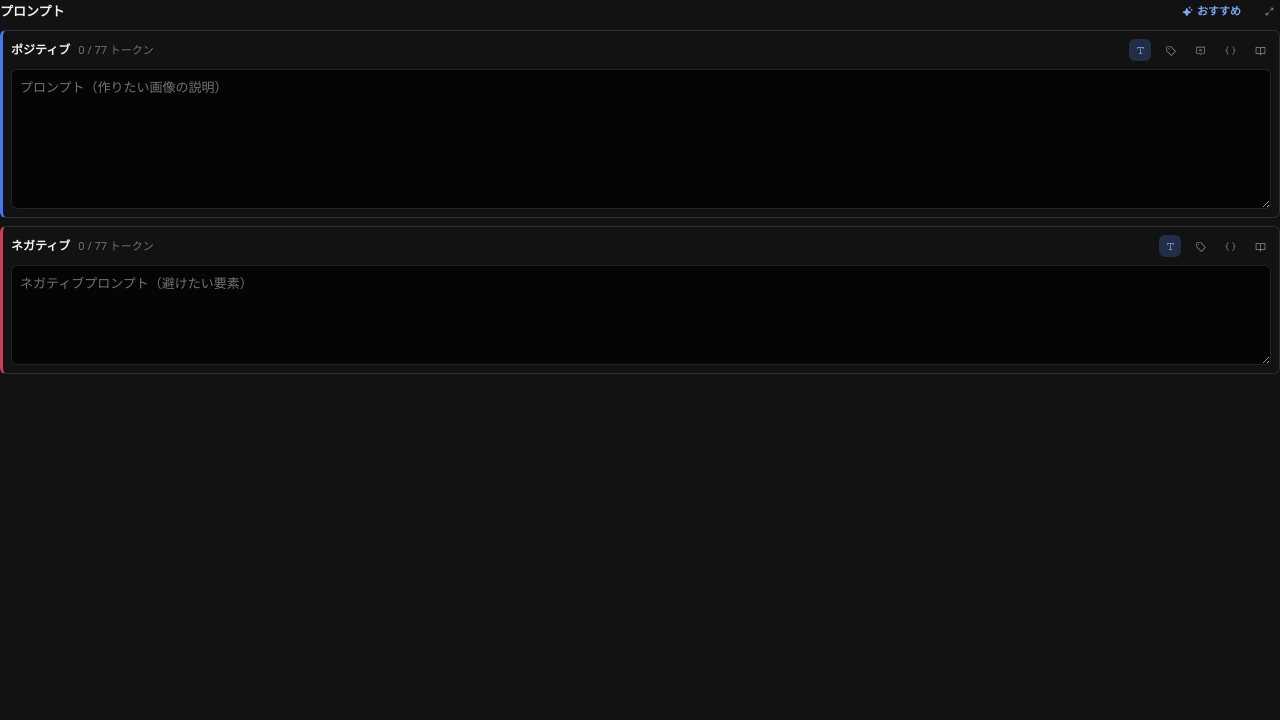
the prompt boxes › edits both prompts in the big editor, and closes it
This screenshot has width=1280, height=720.
Click the button with test id "prompt-expand" at (1269, 11), box [1258,0,1279,22]
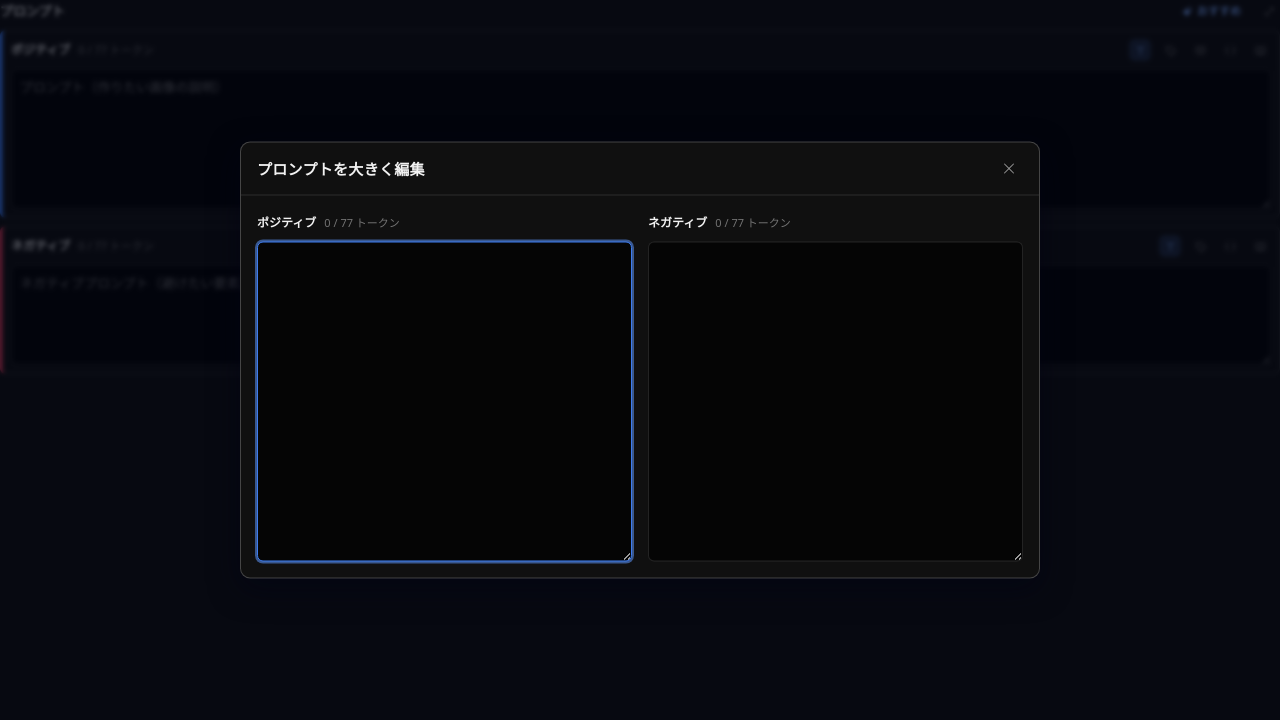
Type "long positive" into the text box with test id "big-positive" at (444, 402), box [257,242,632,562]
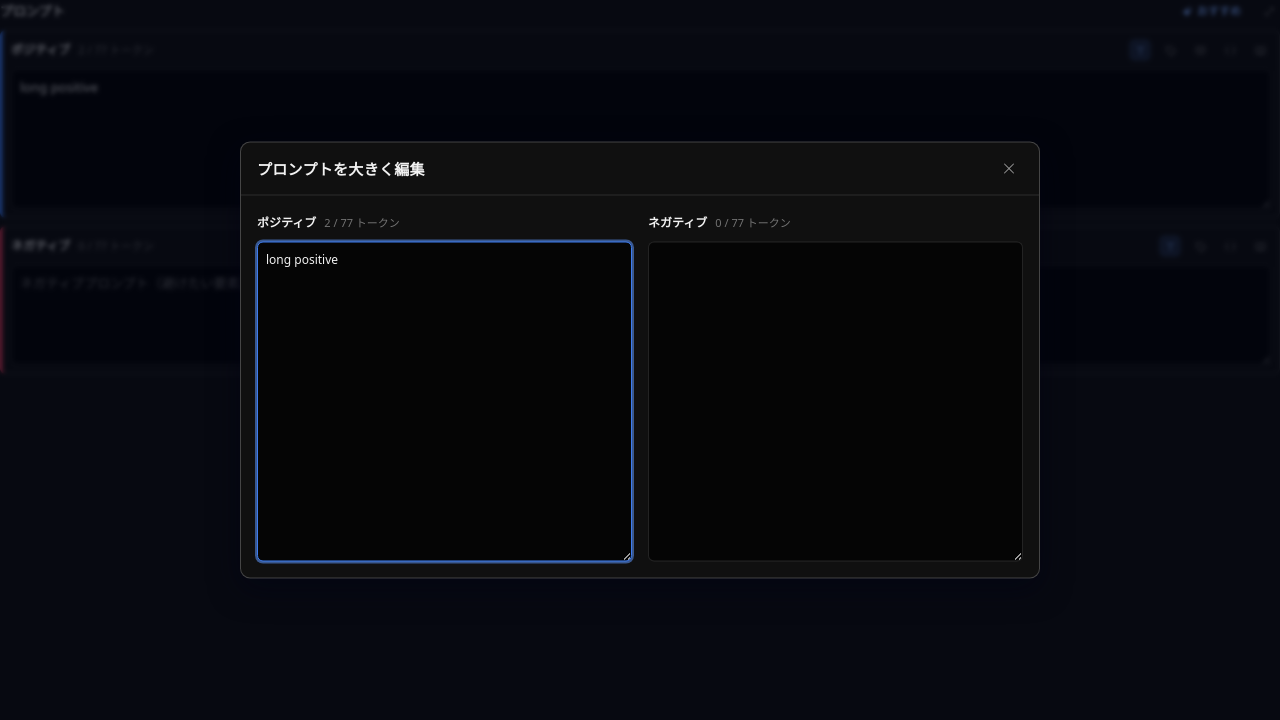
Type "long negative" into the text box with test id "big-negative" at (836, 402), box [648,242,1023,562]
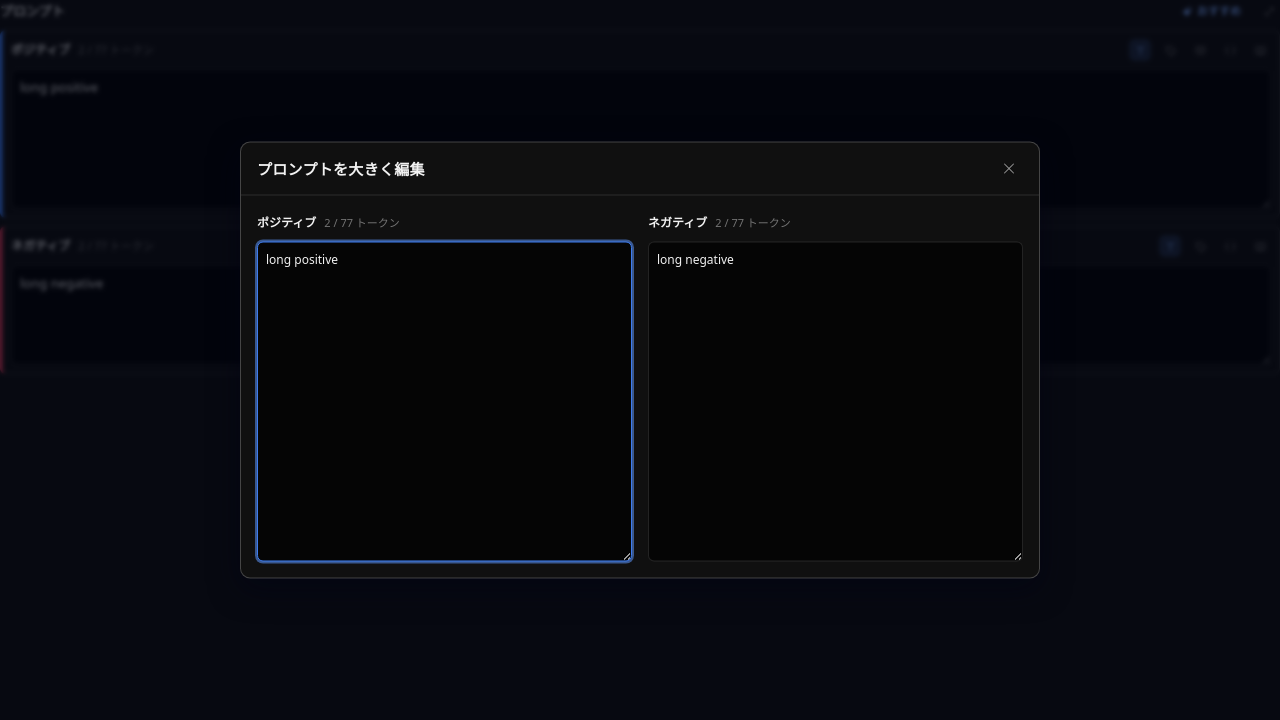
Click the button named "閉じる" at (1009, 168), box [995,154,1023,182]
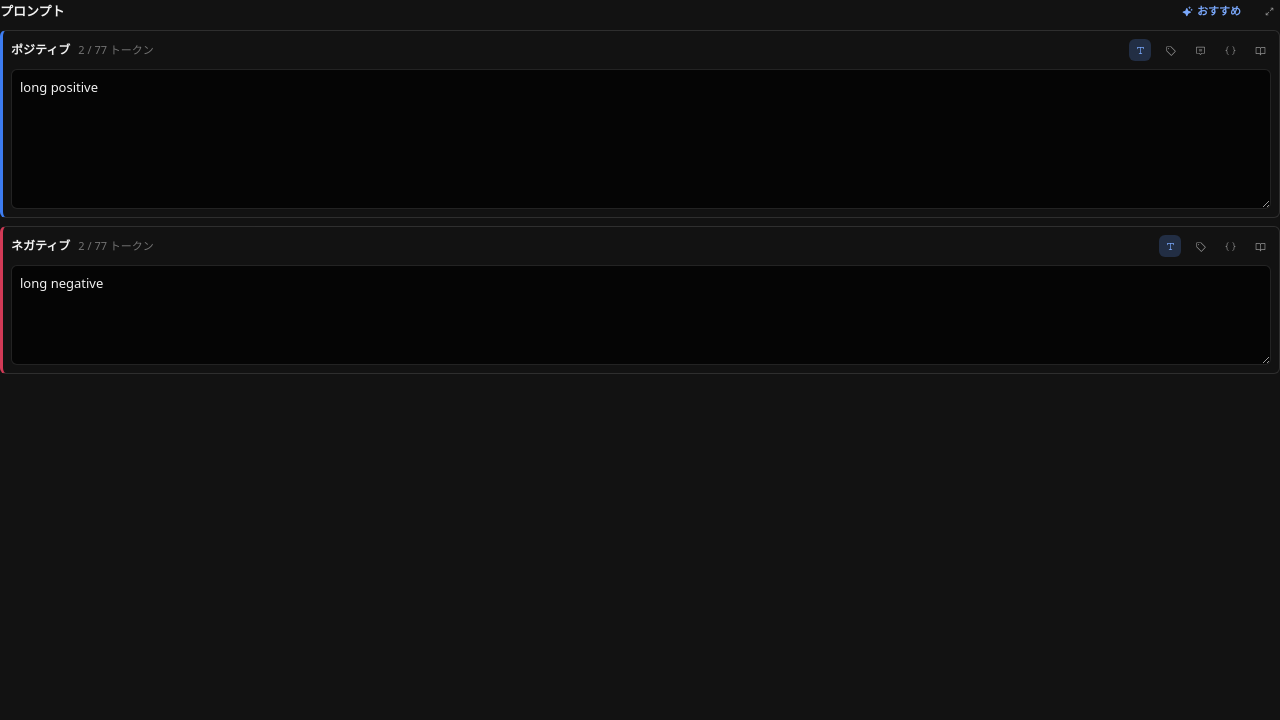
Now the text box with test id "big-positive" is gone
